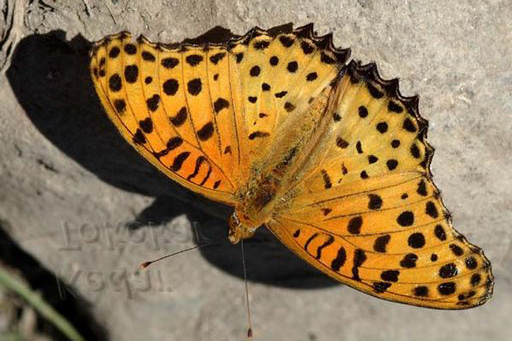Argyreus hyperbius: (84, 15, 495, 337)
butterfly: (86, 17, 497, 339)
